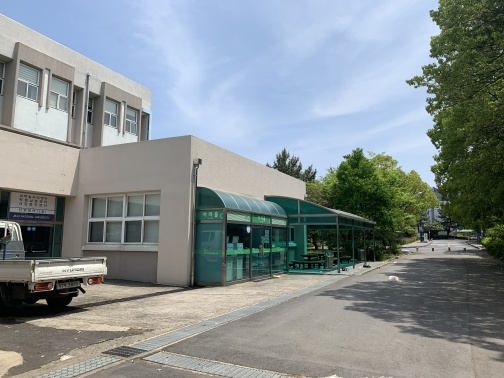Ara Hall: (82, 143, 376, 290), (191, 189, 370, 286)
